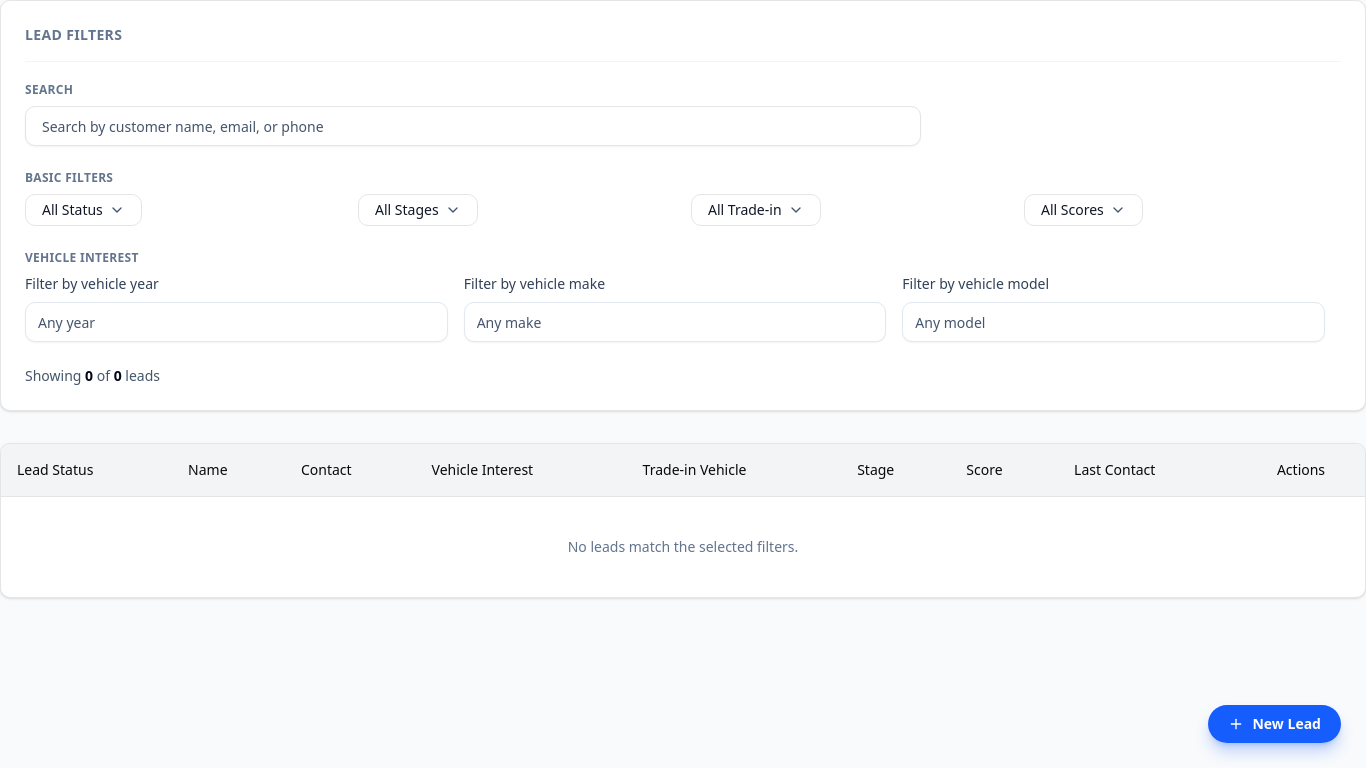
Test case: UI-LEAD — filtering and CRUD component integration › UI-LEAD-05: blank names prevent creation; a valid lead appears after successful save
Click the button with aria-label "Create new lead" at [1275, 724], box [1208,704,1342,744]
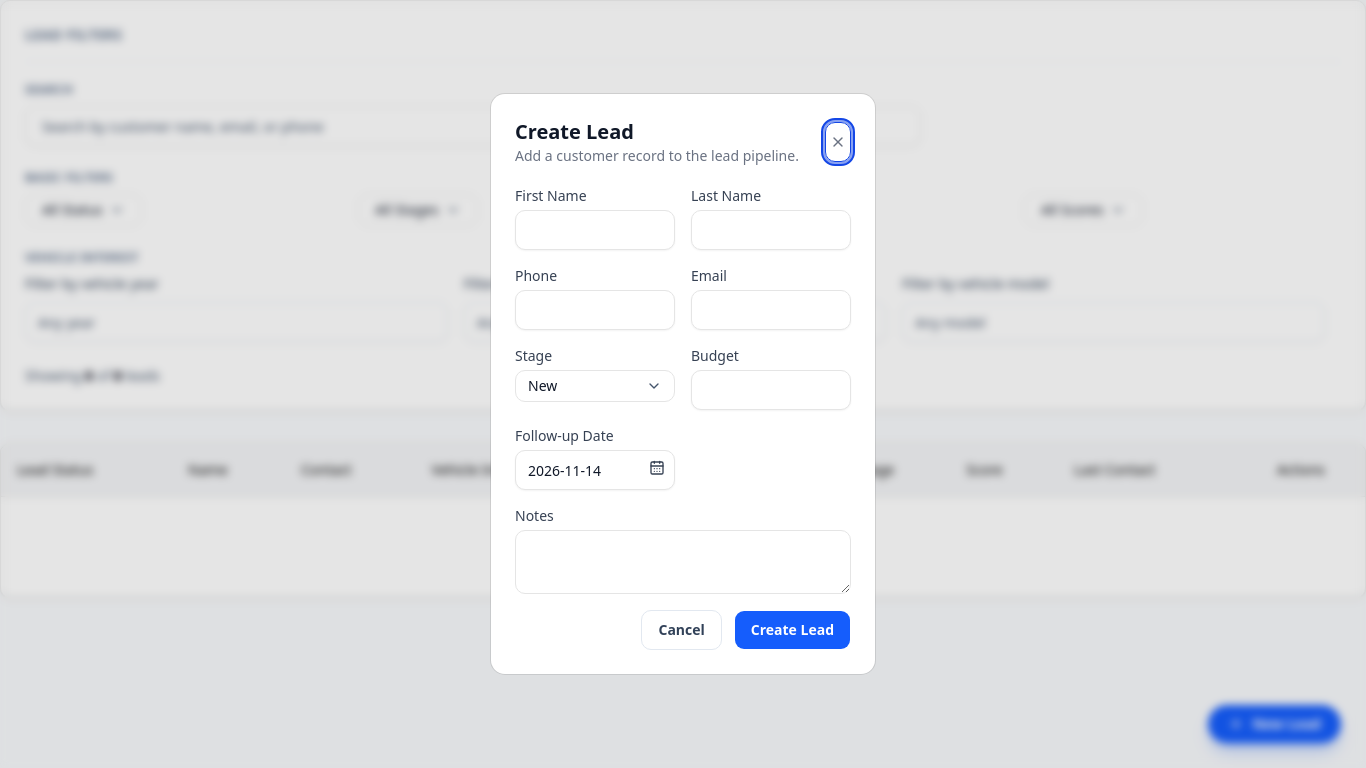
Click the button "Create Lead" at [792, 630], box [734,610,851,650]
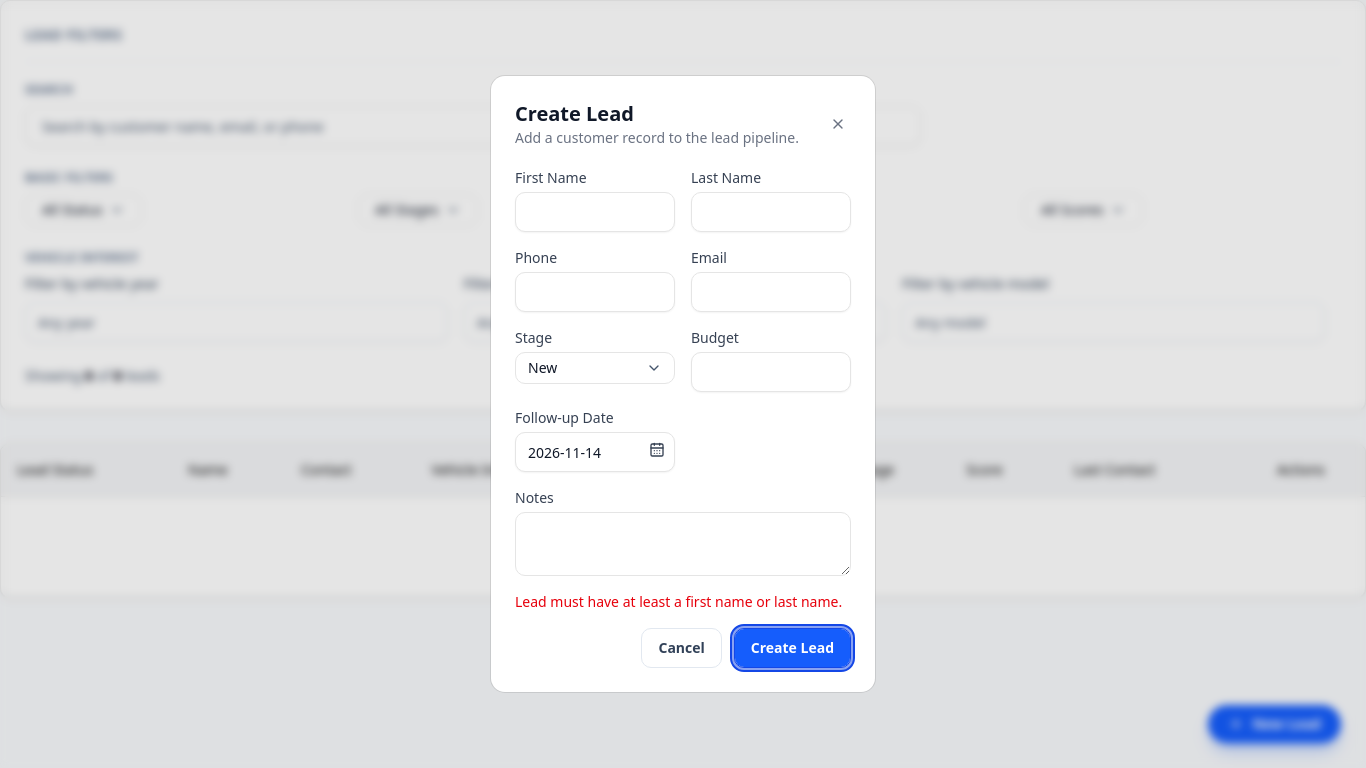
Result: the text "Lead must have at least a first name or last name." is shown at [515,592,851,612]
Type "New customer" into the field labelled "First Name" at [595, 212], box [515,192,675,232]
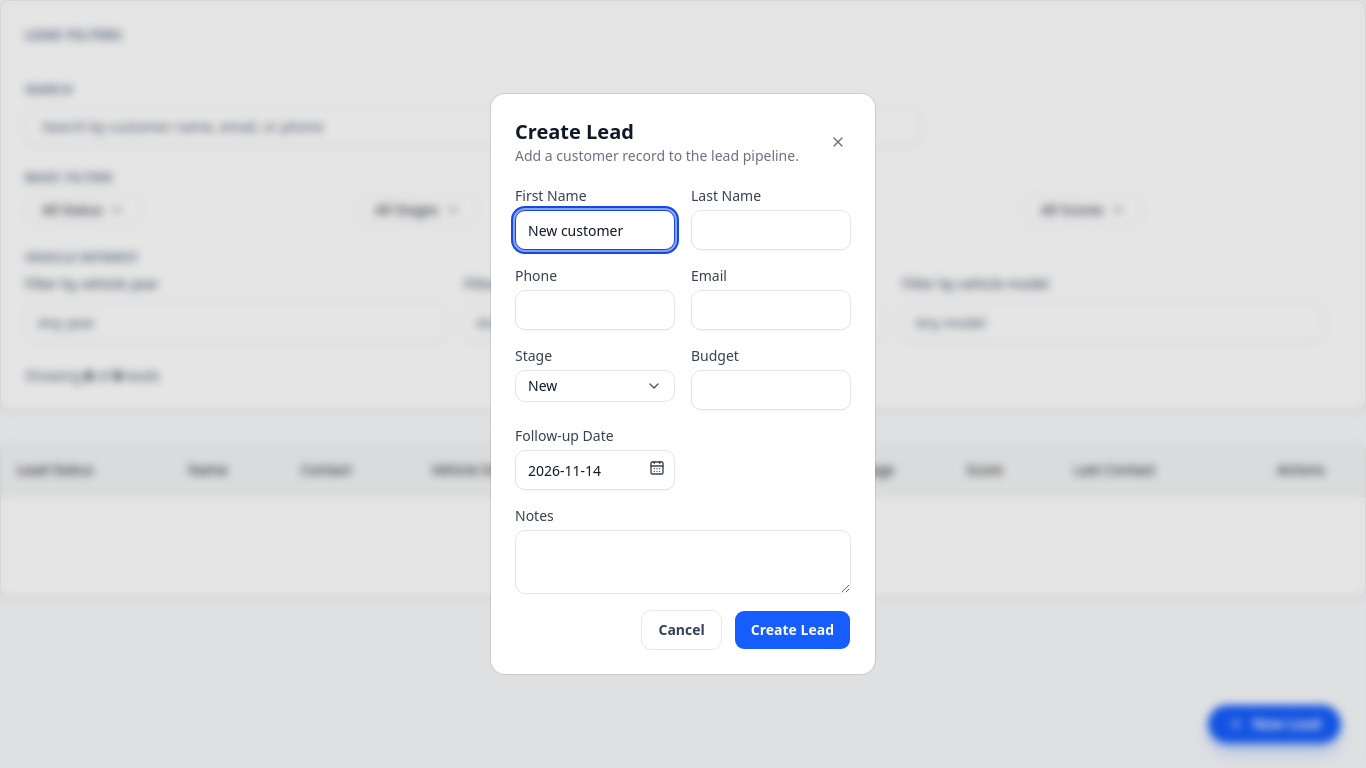
Click the button "Create Lead" at [792, 630], box [734,610,851,650]
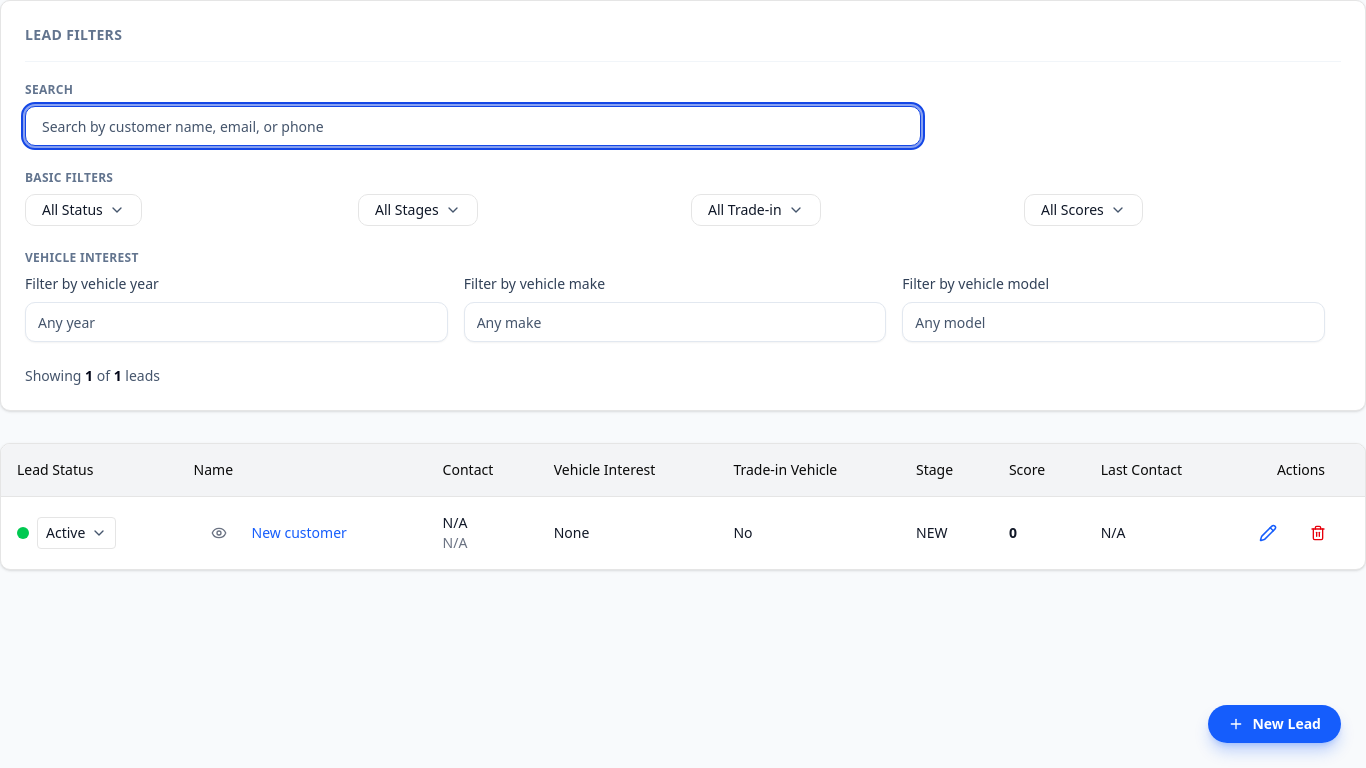
Result: the label labelled "First Name" is gone
